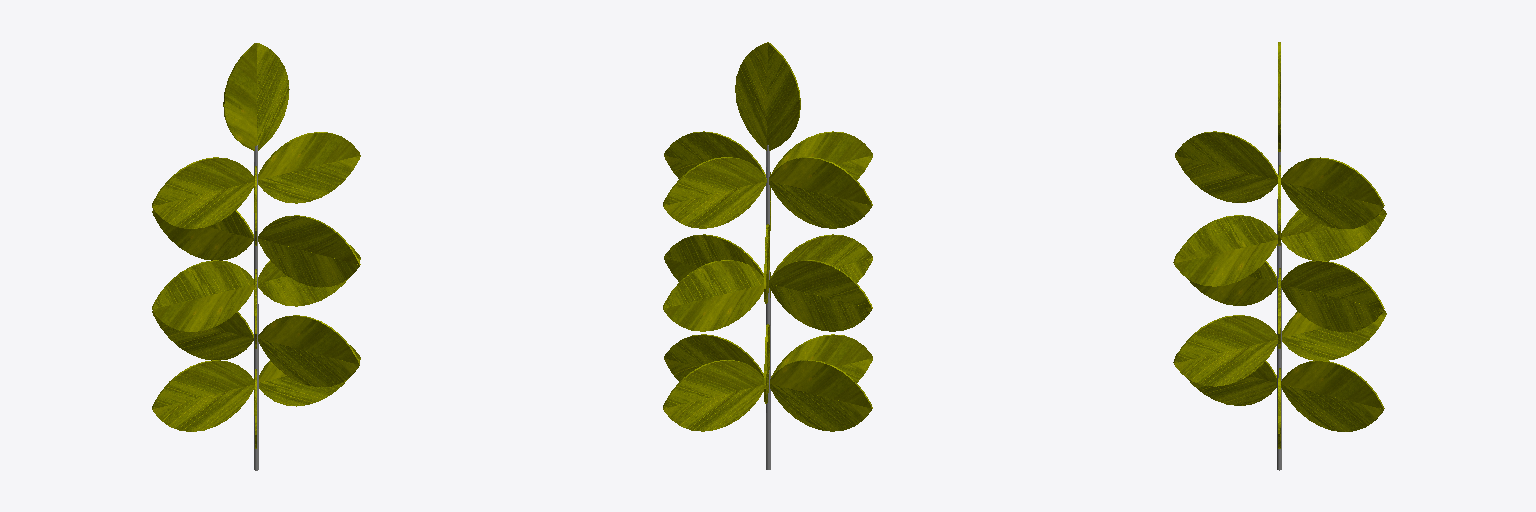
The picture shows the model from 3 angles: view 1: azimuth 30°, elevation 25°; view 2: azimuth 150°, elevation 25°; view 3: azimuth 270°, elevation 25°; orthographic projection.
Parts seen in each view (by area): view 1: Cylinder093, Cylinder087, Cylinder084, Cylinder085, Cylinder086, Cylinder091, Cylinder092, Cylinder099, Cylinder100, Cylinder094, Cylinder095, Cone005; view 2: Cylinder096, Cylinder085, Cylinder084, Cylinder086, Cylinder097, Cylinder087, Cylinder098, Cylinder089, Cylinder088, Cylinder090, Cylinder093, Cylinder095 (+2 smaller); view 3: Cylinder092, Cylinder091, Cylinder088, Cylinder098, Cylinder096, Cylinder097, Cylinder099, Cylinder100, Cylinder090, Cylinder089, Cone005.
Part boxes in pixels (left/top/right/bottom): Cylinder093: left=258, top=132, right=360, bottom=203; Cylinder087: left=223, top=43, right=289, bottom=150; Cylinder084: left=152, top=157, right=253, bottom=228; Cylinder085: left=152, top=260, right=253, bottom=331; Cylinder086: left=152, top=360, right=253, bottom=431; Cylinder091: left=258, top=215, right=360, bottom=287; Cylinder092: left=258, top=315, right=359, bottom=386; Cylinder099: left=152, top=209, right=253, bottom=260; Cylinder100: left=152, top=311, right=253, bottom=360; Cylinder094: left=258, top=245, right=360, bottom=306; Cylinder095: left=259, top=345, right=360, bottom=406; Cone005: left=254, top=145, right=258, bottom=470; Cylinder096: left=663, top=157, right=766, bottom=228; Cylinder085: left=769, top=260, right=872, bottom=331; Cylinder084: left=769, top=157, right=872, bottom=228; Cylinder086: left=770, top=360, right=872, bottom=431; Cylinder097: left=663, top=260, right=763, bottom=331; Cylinder087: left=735, top=42, right=800, bottom=150; Cylinder098: left=663, top=360, right=763, bottom=431; Cylinder089: left=770, top=234, right=872, bottom=282; Cylinder088: left=770, top=131, right=872, bottom=179; Cylinder090: left=771, top=334, right=872, bottom=382; Cylinder093: left=664, top=131, right=766, bottom=178; Cylinder095: left=664, top=334, right=763, bottom=381; Cylinder092: left=1173, top=315, right=1277, bottom=386; Cylinder091: left=1173, top=215, right=1277, bottom=286; Cylinder088: left=1175, top=131, right=1277, bottom=202; Cylinder098: left=1281, top=360, right=1384, bottom=431; Cylinder096: left=1281, top=157, right=1384, bottom=228; Cylinder097: left=1281, top=260, right=1384, bottom=331; Cylinder099: left=1281, top=209, right=1386, bottom=260; Cylinder100: left=1282, top=310, right=1386, bottom=360; Cylinder090: left=1175, top=353, right=1276, bottom=405; Cylinder089: left=1175, top=252, right=1276, bottom=305; Cone005: left=1277, top=152, right=1281, bottom=470.
Size of the model in its own units: 26.89 by 52.63 by 23.88.
2 materials, 1 textured.